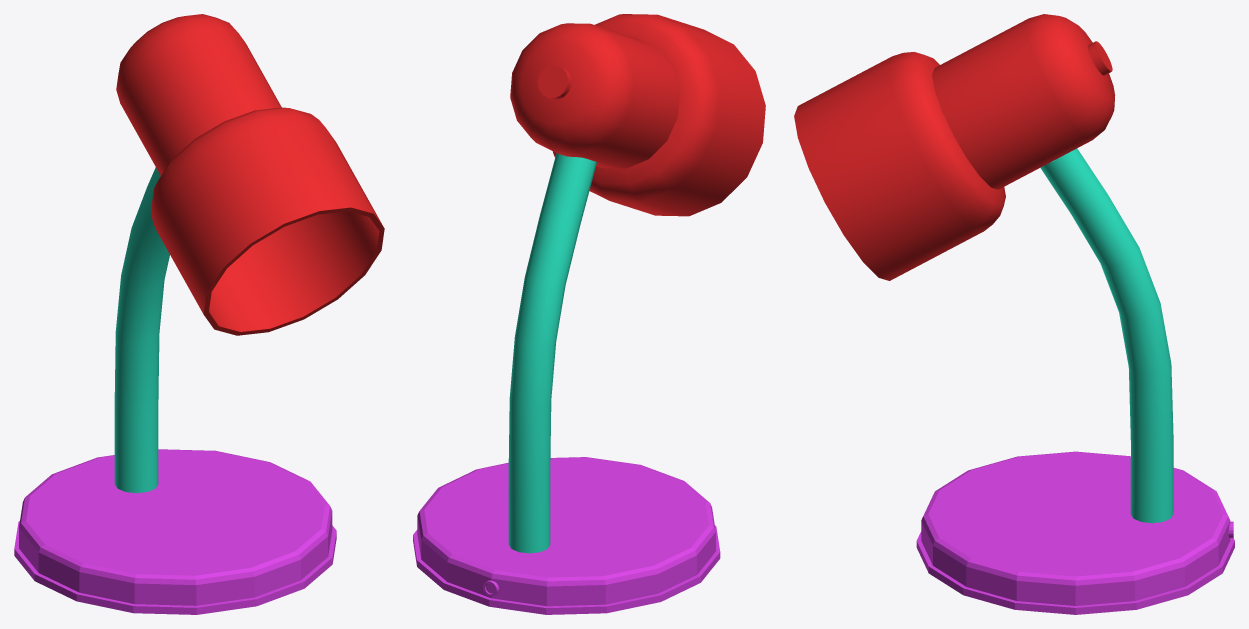
The model's file is DeskLamp.fbx.
3 renders of one model, left to right at view 1: azimuth 30°, elevation 25°; view 2: azimuth 150°, elevation 25°; view 3: azimuth 270°, elevation 25°, orthographic. The views are drawn at different scales.
Visible parts, largest first — view 1: desk_lamp; view 2: desk_lamp; view 3: desk_lamp.
Boxes of the visible parts, <box> form: desk_lamp: <box>14,14,384,614</box>; desk_lamp: <box>413,14,765,614</box>; desk_lamp: <box>794,14,1234,614</box>.
Size of the model in its own units: 0.1635 by 0.2988 by 0.2265.
